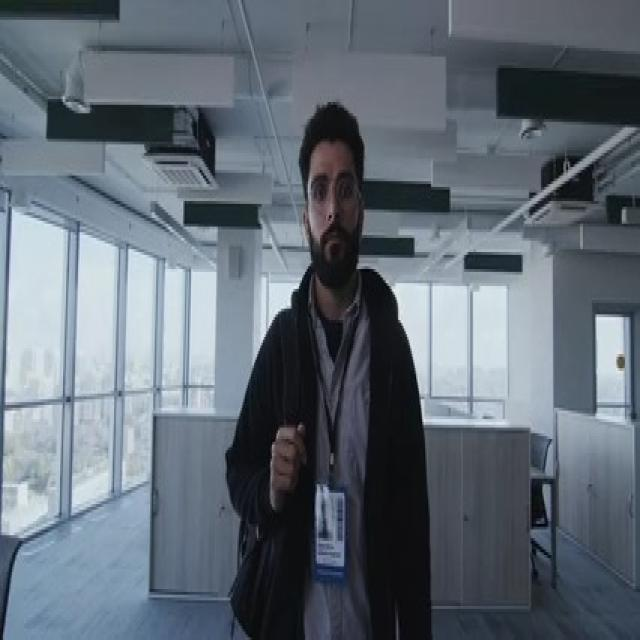Jacket_Wearer: (222, 247, 426, 640)
Person: (219, 101, 431, 640)
